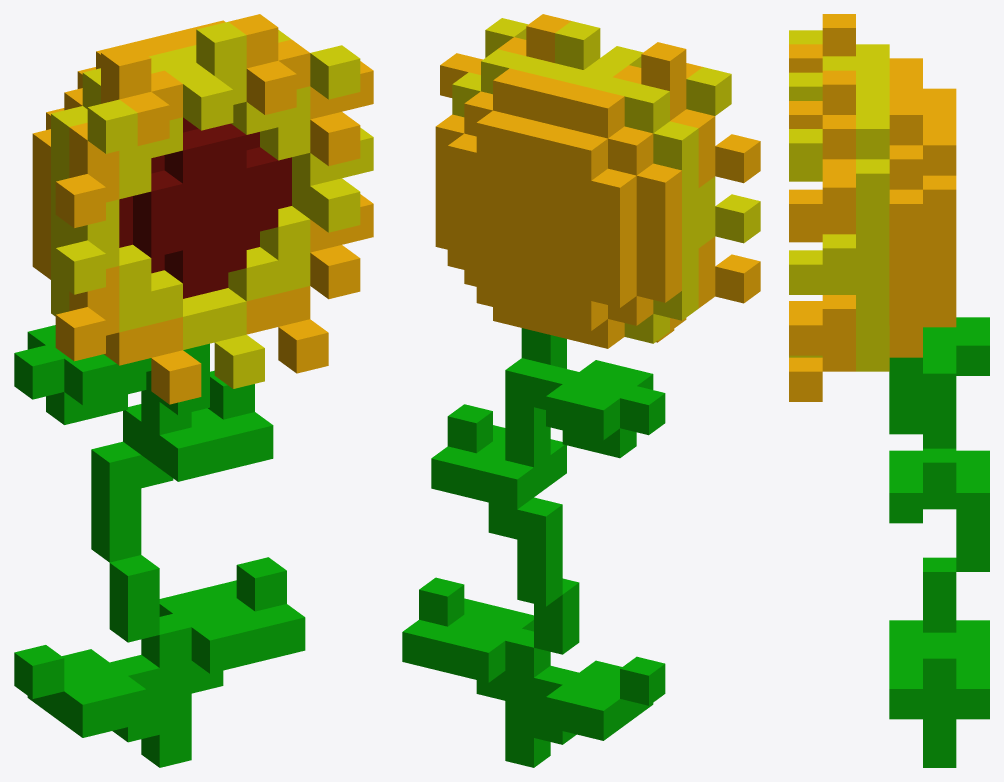
File: Sunflower2.obj
3 renders of one model, left to right at view 1: azimuth 30°, elevation 25°; view 2: azimuth 150°, elevation 25°; view 3: azimuth 270°, elevation 25°, orthographic. The views are drawn at different scales.
Bounding box in the file's own units: 1 × 2.3 × 0.6.
